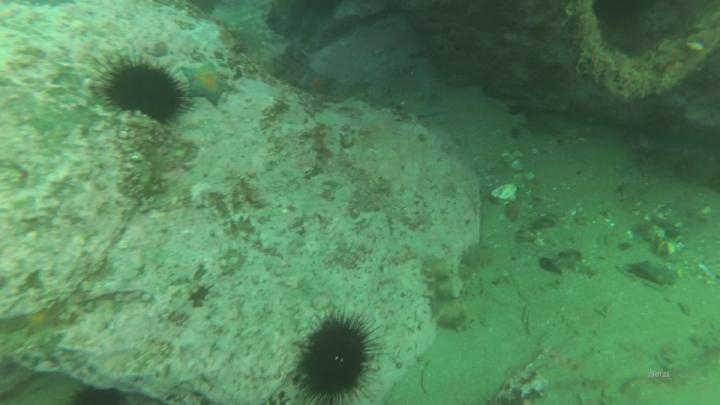echinus: (295, 316, 373, 402), (104, 60, 182, 129)
holothurian: (421, 255, 470, 333)
starfish: (182, 60, 230, 106)
